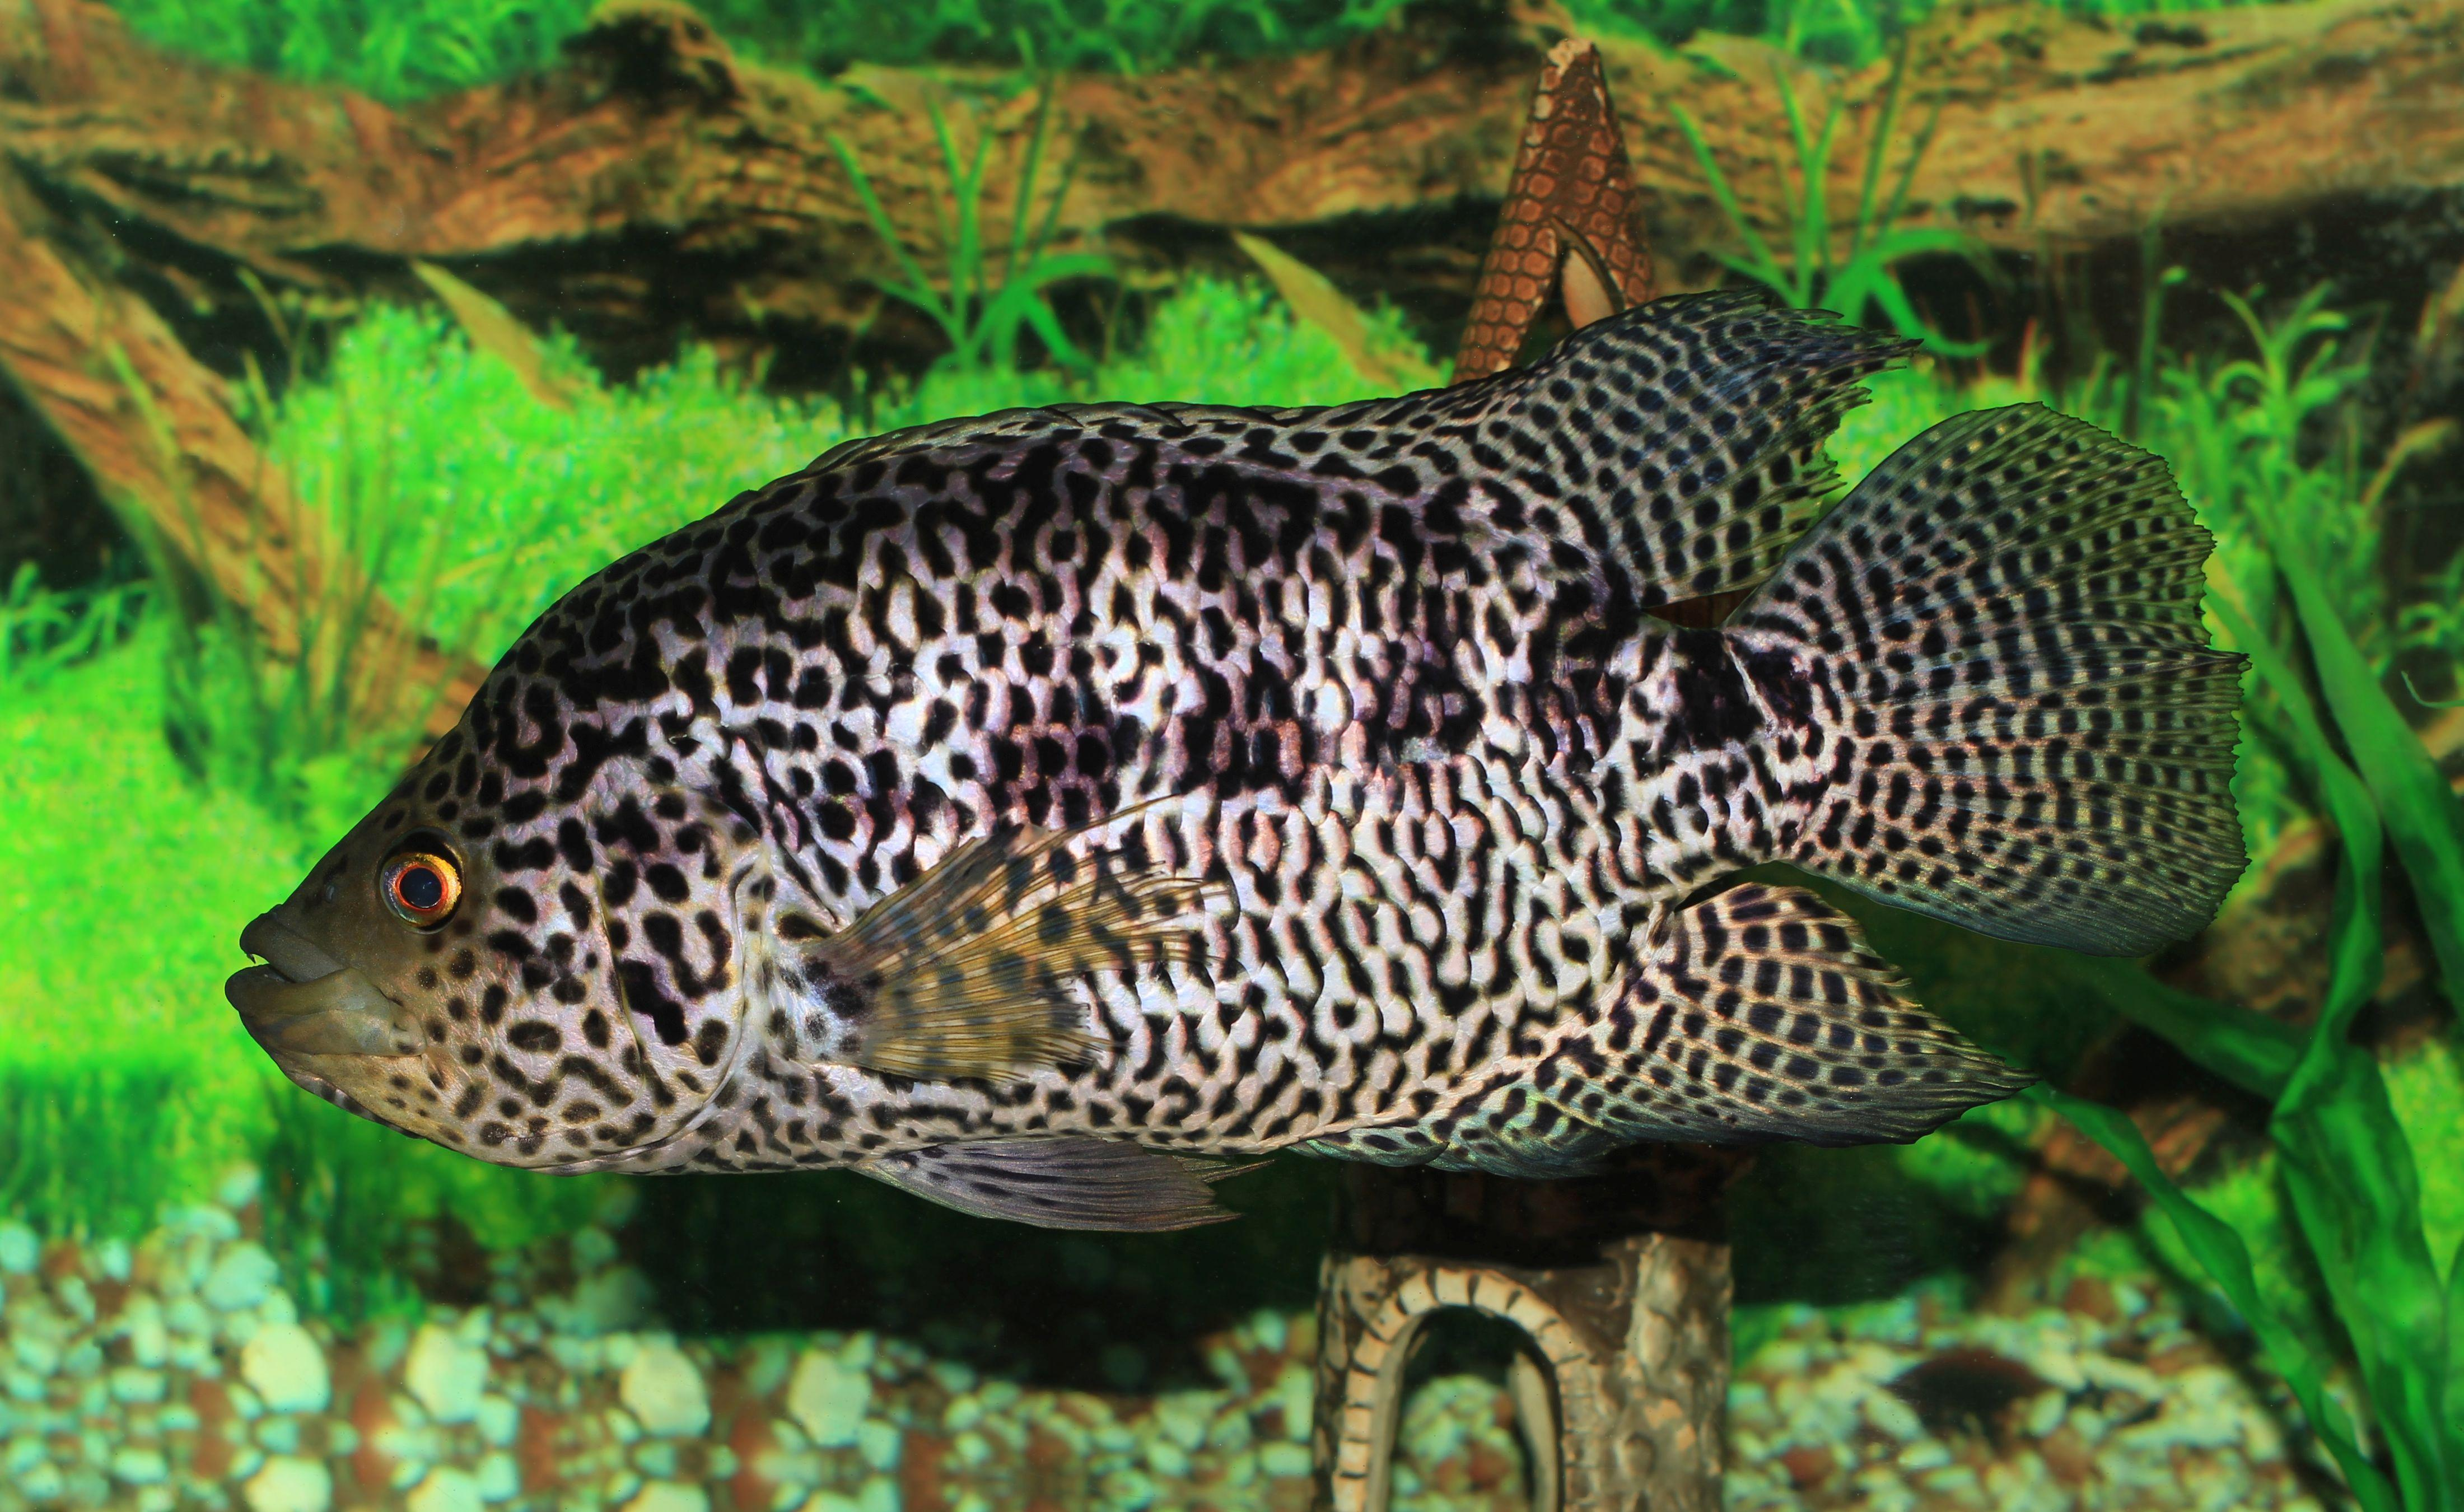Jaguar Gapote: (243, 280, 2251, 1260)
